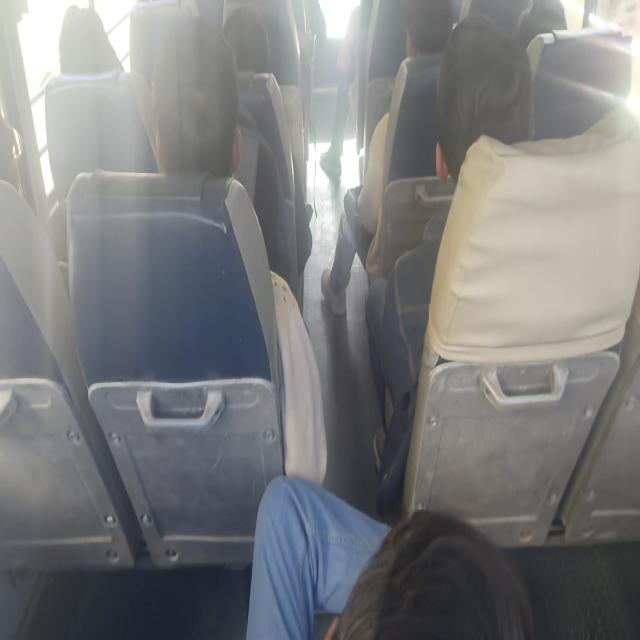person: (309, 488, 536, 640), (436, 22, 522, 192), (155, 37, 228, 185), (44, 1, 134, 98), (214, 5, 271, 80), (0, 84, 35, 194), (396, 0, 462, 55), (509, 0, 569, 36)
